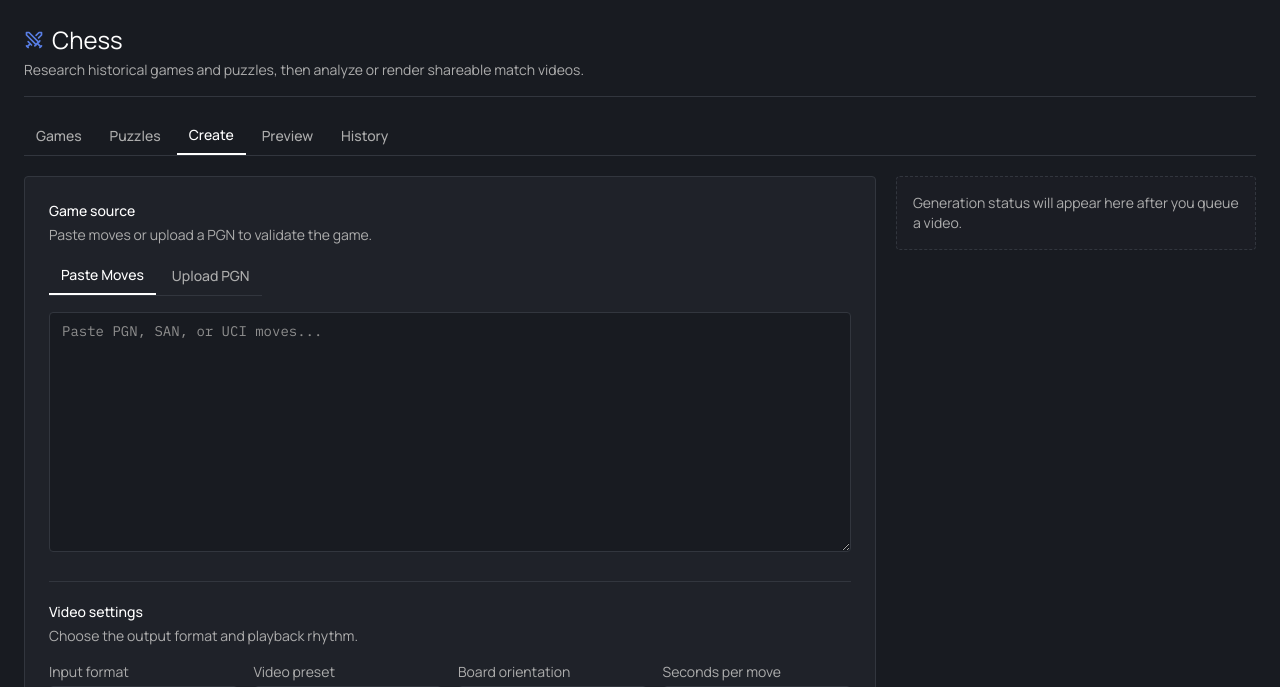
Test: ChessVideoPage › shows render progress while job is active
Click the tab "History": (365,136) top-left (329, 117), bottom-right (400, 155)
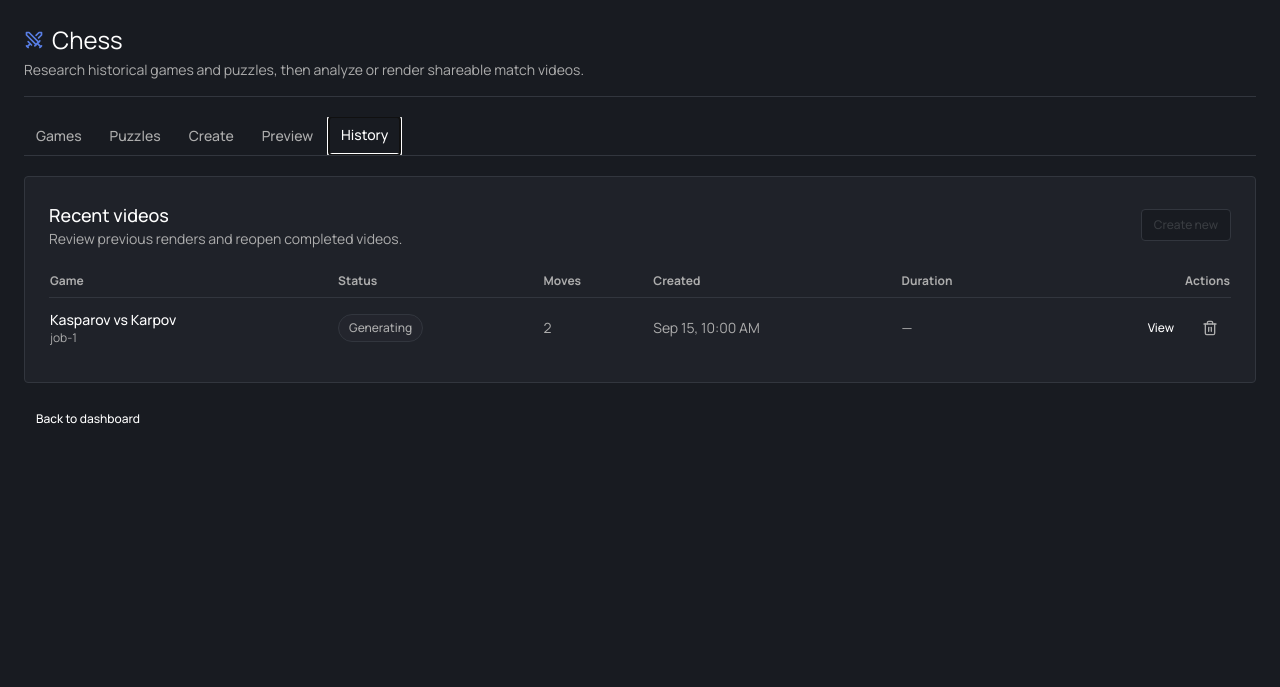
Click the button "Kasparov vs Karpov": (113,320) top-left (50, 310), bottom-right (176, 330)
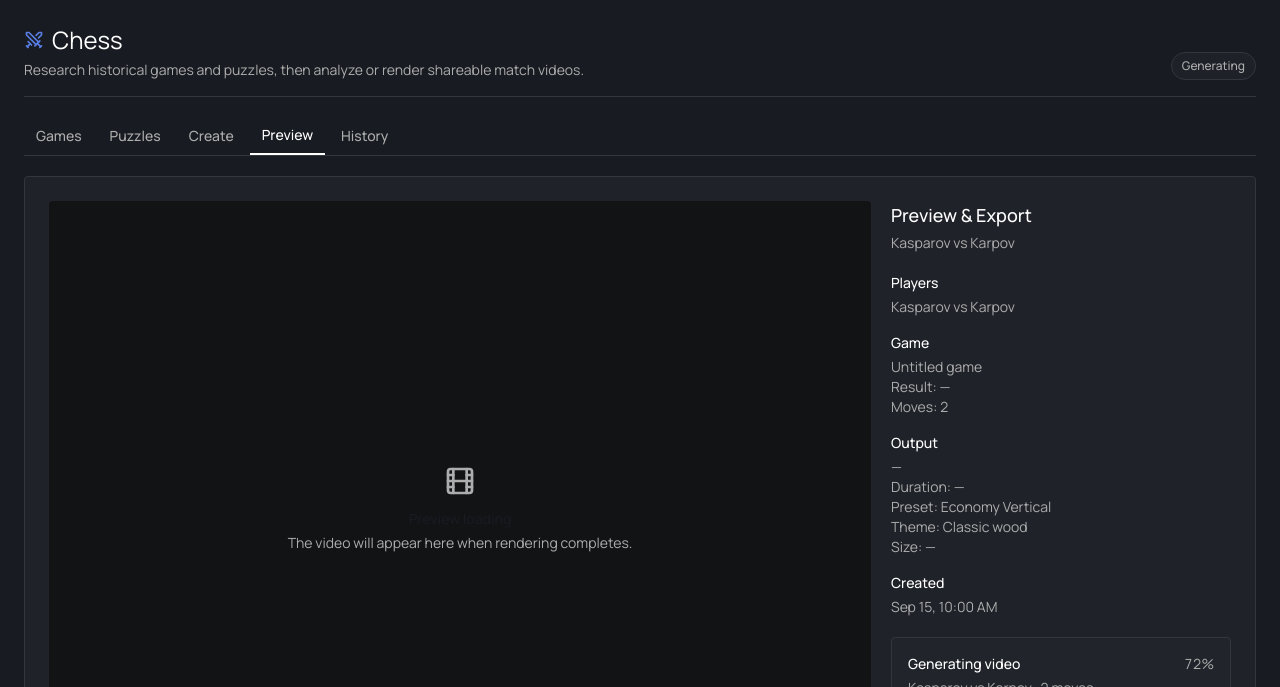
Expected: the text "Generating video" is shown, top-left (908, 654), bottom-right (1020, 673)
Expected: the text "72%" is shown, top-left (1184, 654), bottom-right (1214, 674)
